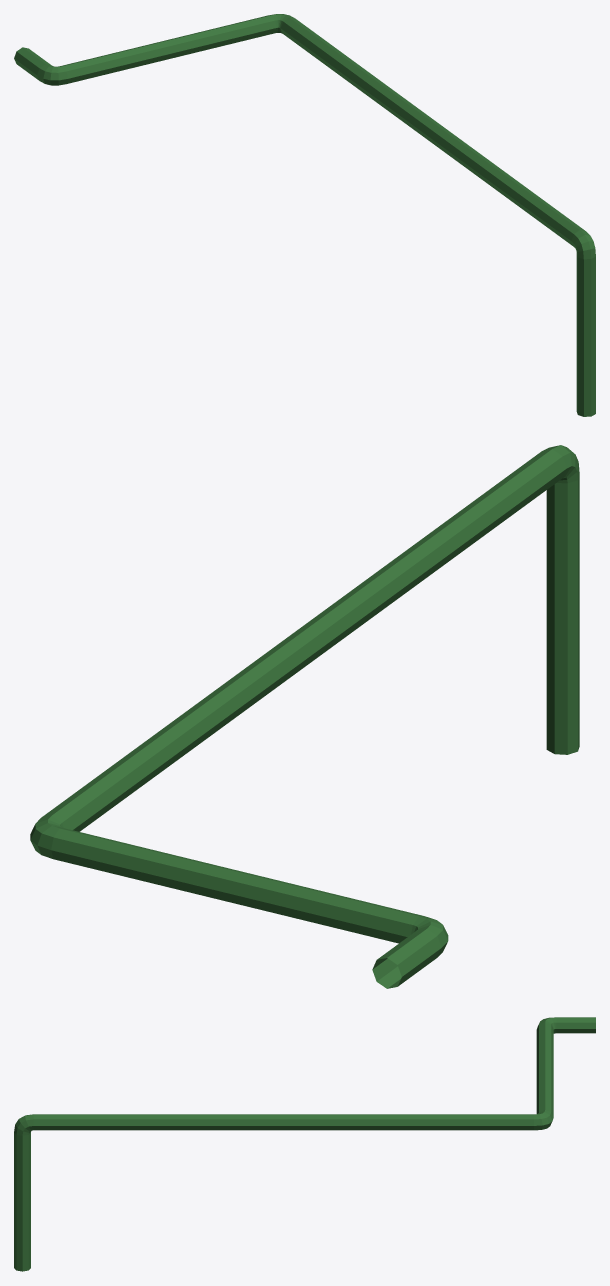
The model's file is greenTube_Geo.fbx.
The picture shows the model from 3 angles, top to bottom: view 1: azimuth 30°, elevation 25°; view 2: azimuth 150°, elevation 25°; view 3: azimuth 270°, elevation 25°; orthographic projection. The views are drawn at different scales.
Visible parts, largest first — view 1: greenTube; view 2: greenTube; view 3: greenTube.
Part boxes in pixels (x1,y1,x2,y2): greenTube: (14,14,595,416); greenTube: (30,445,579,988); greenTube: (14,1017,595,1271).
Size of the model in its own units: 2884 by 1981 by 6809.
